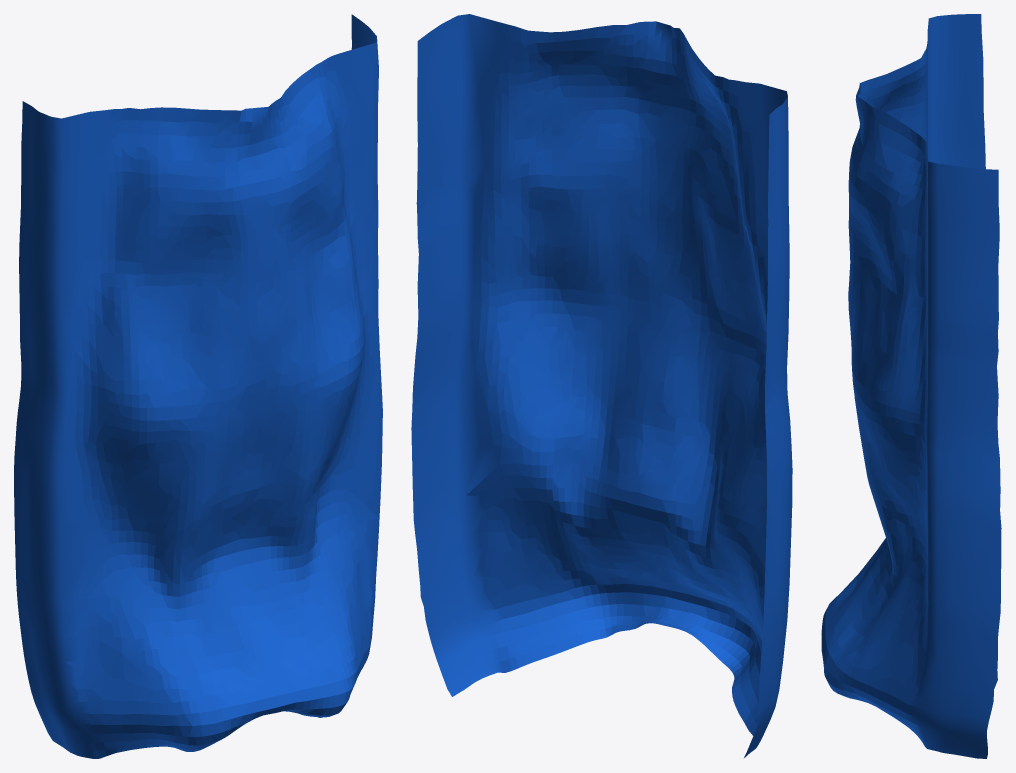
File: draps_shoulders.fbx
3 renders of one model, left to right at view 1: azimuth 30°, elevation 25°; view 2: azimuth 150°, elevation 25°; view 3: azimuth 270°, elevation 25°, orthographic. The views are drawn at different scales.
Visible parts, largest first — view 1: Plane.002; view 2: Plane.002; view 3: Plane.002.
Part boxes in pixels (x1,y1,x2,y2): Plane.002: [14, 14, 382, 758]; Plane.002: [411, 14, 792, 757]; Plane.002: [821, 14, 1001, 758].
Size of the model in its own units: 1080 by 1938 by 523.
